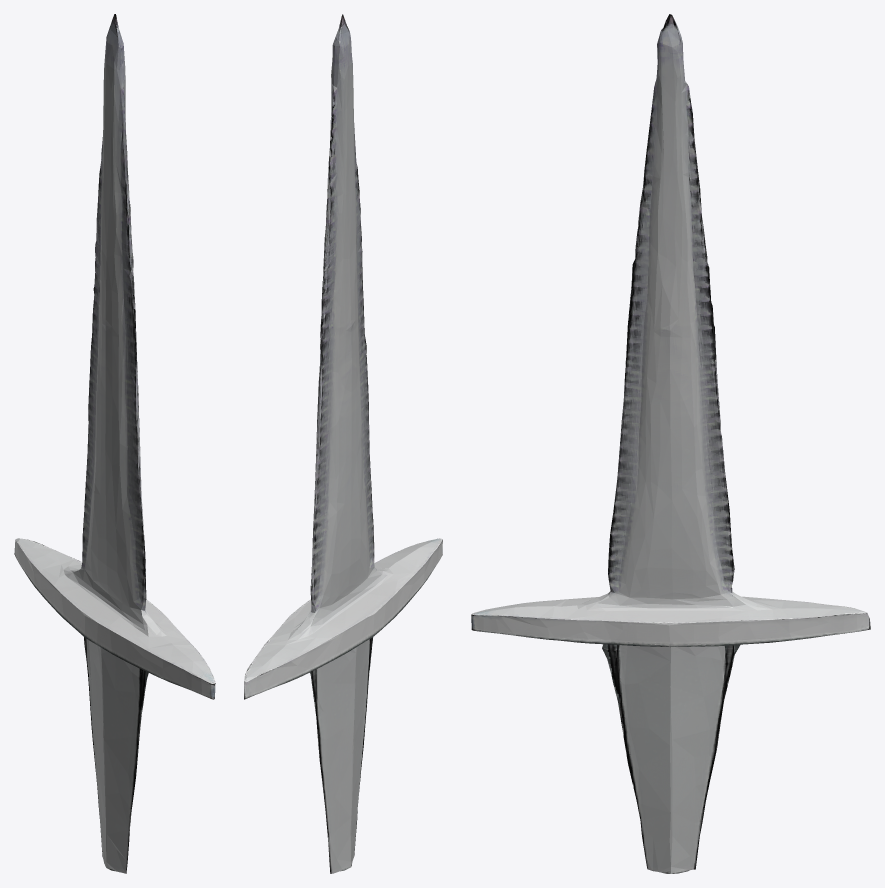
File: 220_modified_new-1.glb
The picture shows the model from 3 angles, left to right: view 1: azimuth 30°, elevation 25°; view 2: azimuth 150°, elevation 25°; view 3: azimuth 270°, elevation 25°; orthographic projection.
Visible parts, largest first — view 1: world; view 2: world; view 3: world.
Part boxes in pixels (x1,y1,x2,y2): world: (14, 14, 215, 873); world: (244, 14, 442, 873); world: (471, 14, 870, 873).
Bounding box in the file's own units: 0.0758 × 0.9998 × 0.4224.
Materials: 1 (1 with a texture image).
